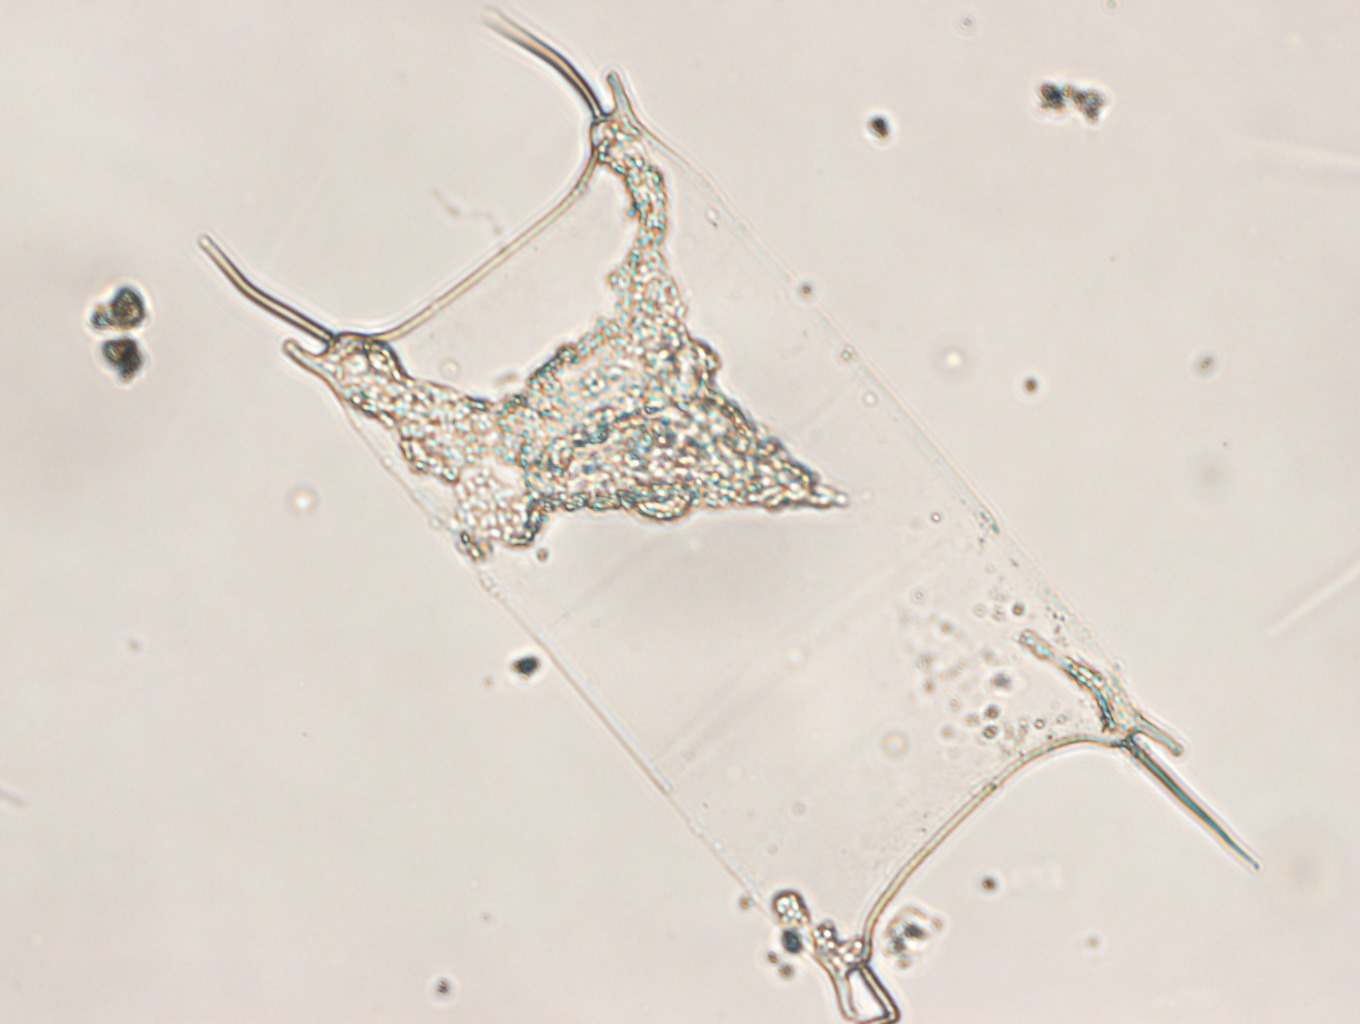biddulphia: (194, 4, 1264, 1024)
